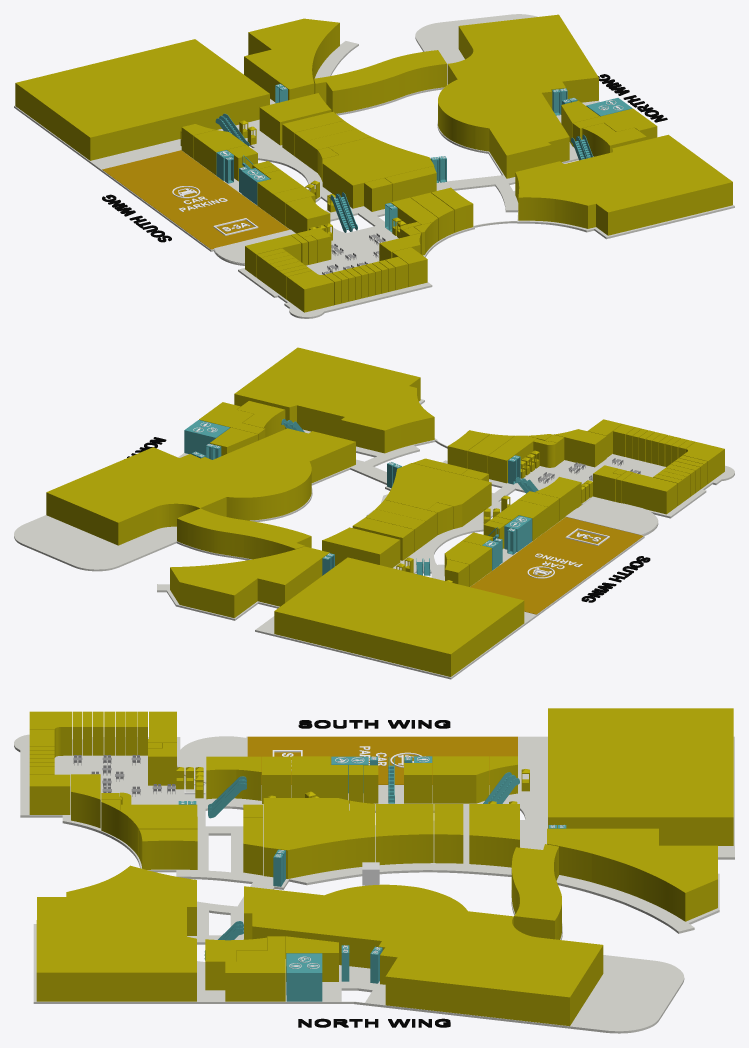
Rendered from floor-3.glb.
The picture shows the model from 3 angles, top to bottom: view 1: azimuth 30°, elevation 25°; view 2: azimuth 150°, elevation 25°; view 3: azimuth 270°, elevation 25°; orthographic projection. The views are drawn at different scales.
Parts seen in each view (by area): view 1: Third floor; view 2: Third floor; view 3: Third floor.
Boxes of the visible parts, box(x1,y1,x2,y2) form: Third floor: box(14, 14, 734, 318); Third floor: box(14, 347, 734, 679); Third floor: box(14, 708, 734, 1033).
Bounding box in the file's own units: 84.68 × 5.77 × 82.78.
